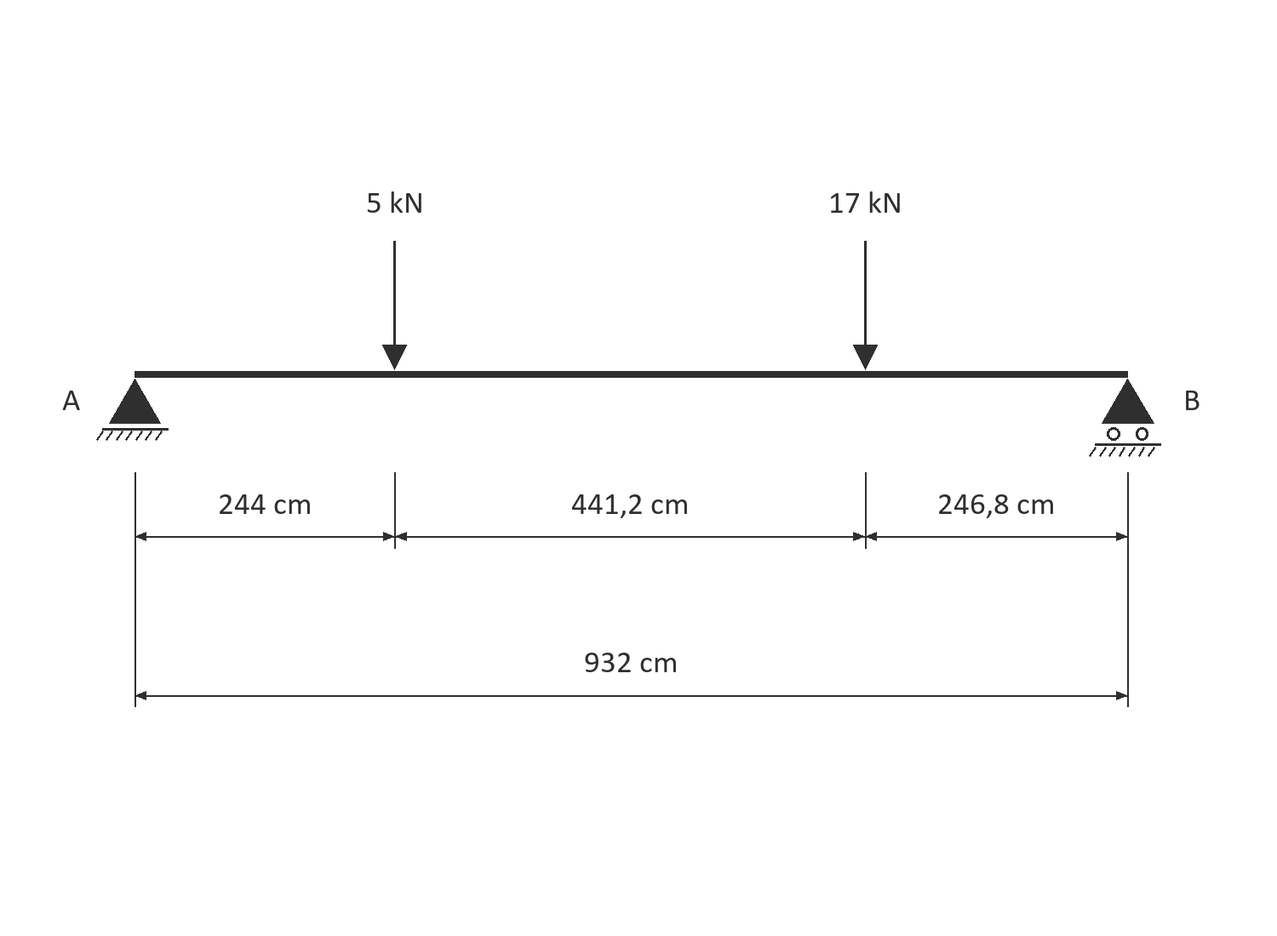pin_support: (96, 379, 169, 441)
point_load: (382, 241, 407, 370), (853, 241, 878, 370)
roller_support: (1089, 379, 1161, 457)
